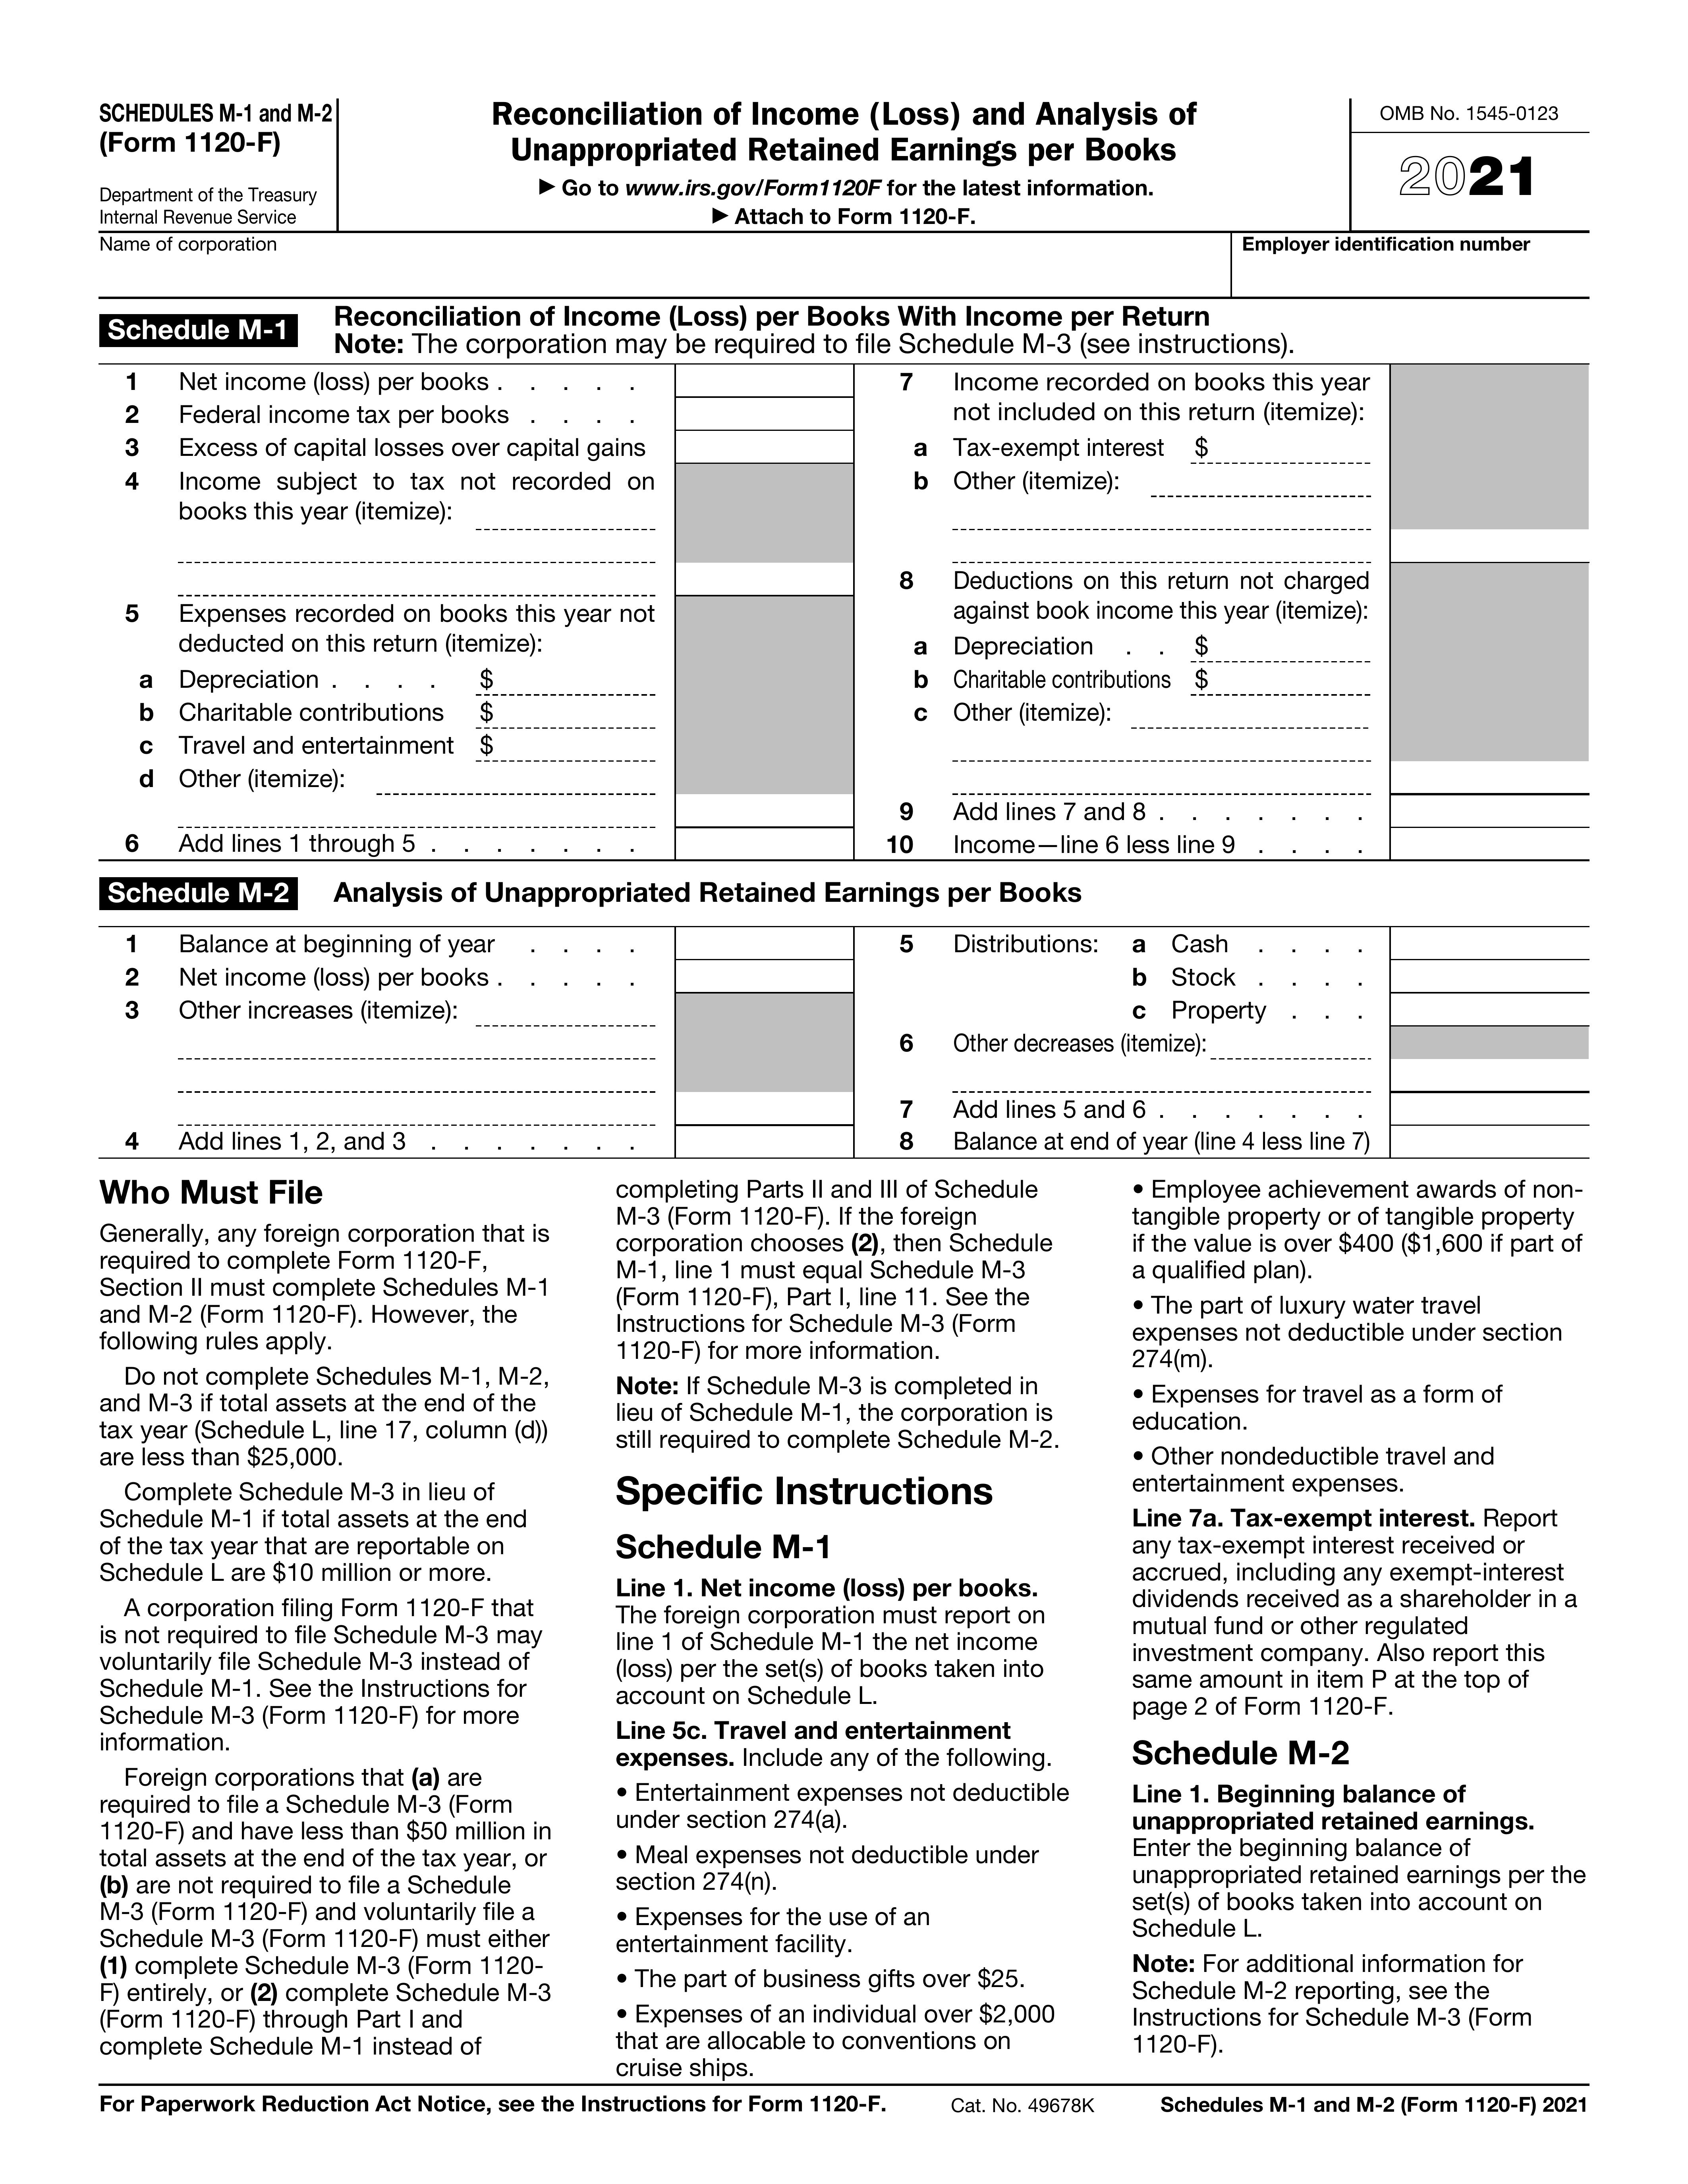form: (80, 85, 1605, 301)
table: (98, 369, 867, 874), (872, 363, 1599, 879), (98, 922, 860, 1172), (883, 911, 1605, 1170)
